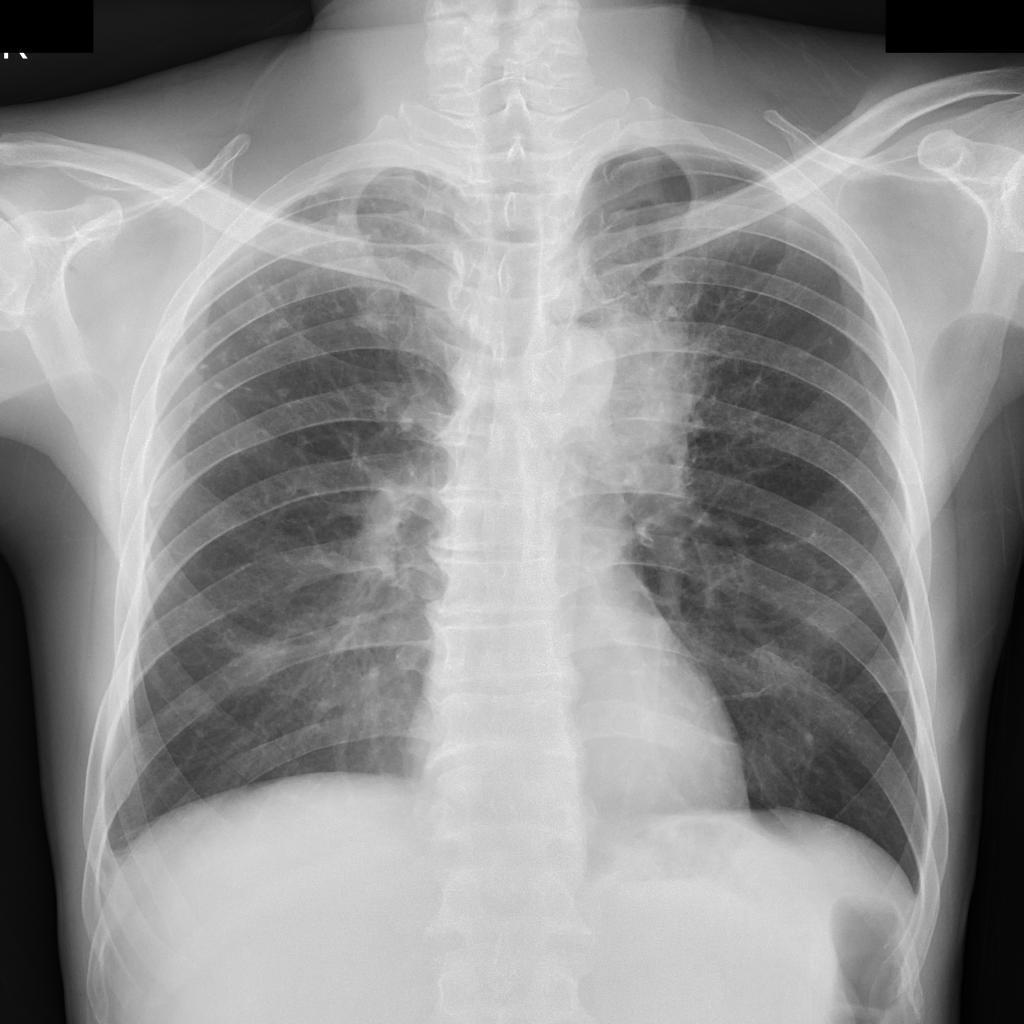Nodule: (570, 310, 696, 486)
